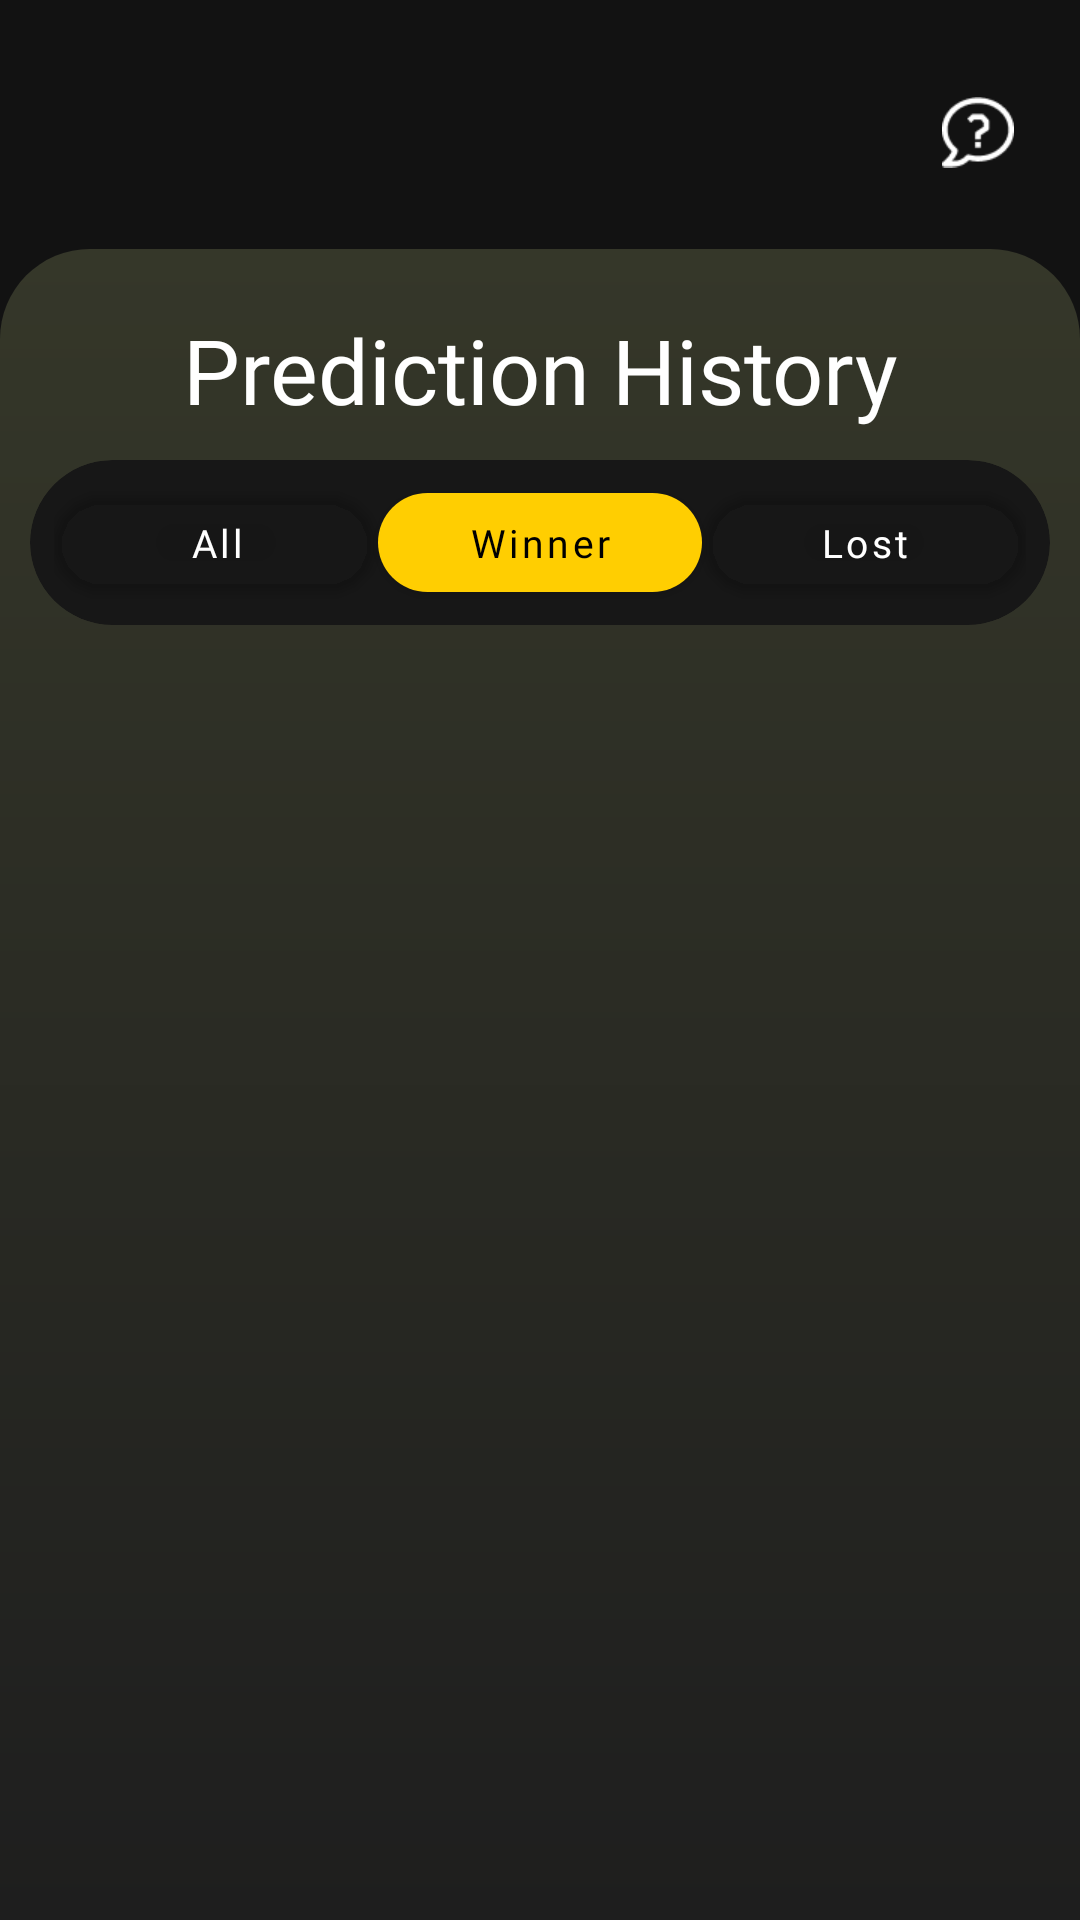

Point at icon controls on the screen. Image size 1080w x 1920h, points as [x,y].
tutorial: [978,132]
